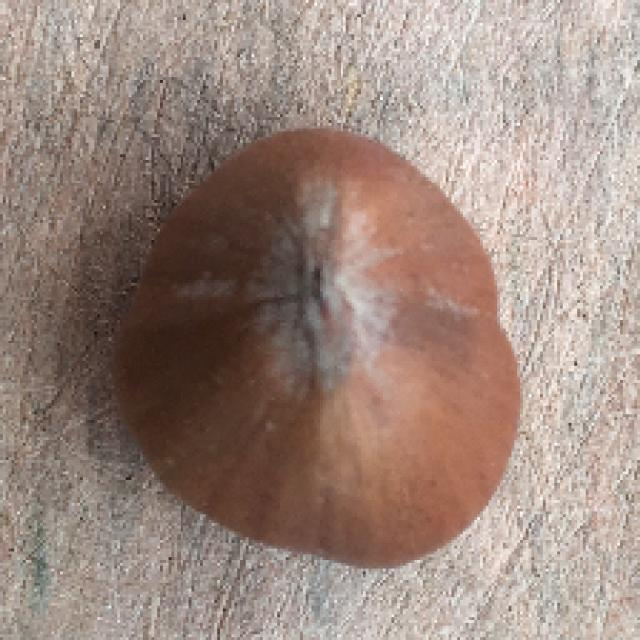damagedHazelnut: (125, 87, 528, 600)
